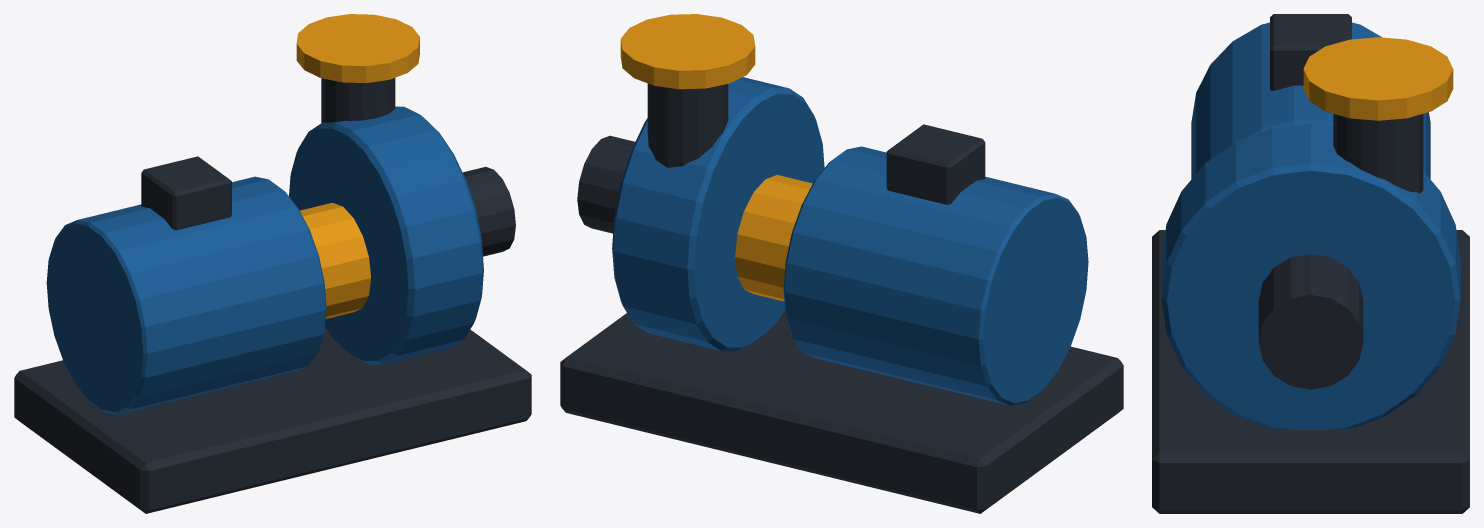
Rendered from centrifugal_pump.glb.
3 views of the same model, side by side, from view 1: azimuth 30°, elevation 25°; view 2: azimuth 150°, elevation 25°; view 3: azimuth 270°, elevation 25° (orthographic). The views are drawn at different scales.
Parts seen in each view (by area): view 1: PP_Motor, PP_DischargePipe, PP_CouplingGuard; view 2: PP_Motor, PP_DischargePipe, PP_CouplingGuard; view 3: PP_Motor, PP_DischargePipe, PP_CouplingGuard.
Part boxes in pixels (box(x1,y1,x2,y2)): PP_Motor: box(46, 106, 483, 414); PP_DischargePipe: box(14, 78, 531, 513); PP_CouplingGuard: box(296, 14, 419, 318); PP_Motor: box(612, 77, 1088, 405); PP_DischargePipe: box(560, 83, 1123, 513); PP_CouplingGuard: box(620, 14, 812, 301); PP_Motor: box(1161, 22, 1460, 429); PP_DischargePipe: box(1152, 14, 1469, 513); PP_CouplingGuard: box(1303, 37, 1453, 120).
Bounding box in the file's own units: 1.55 × 1.18 × 0.8499.
